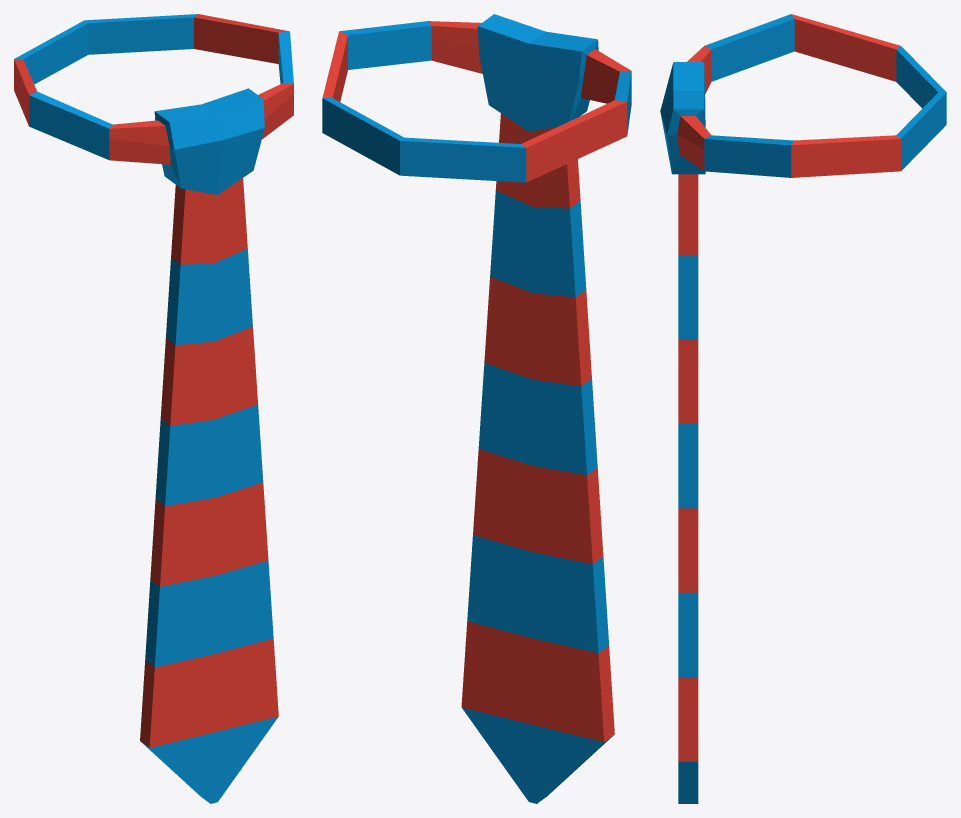
File: Necktie_01.obj
The picture shows the model from 3 angles, left to right: view 1: azimuth 30°, elevation 25°; view 2: azimuth 150°, elevation 25°; view 3: azimuth 270°, elevation 25°; orthographic projection. The views are drawn at different scales.
Parts seen in each view (by area): view 1: Necktie_01_Cube.028; view 2: Necktie_01_Cube.028; view 3: Necktie_01_Cube.028.
Boxes of the visible parts, x1,y1,x2,y2 form: Necktie_01_Cube.028: (14,14,293,803); Necktie_01_Cube.028: (322,14,631,803); Necktie_01_Cube.028: (660,14,946,803).
Size of the model in its own units: 3.81 by 9.76 by 3.51.
